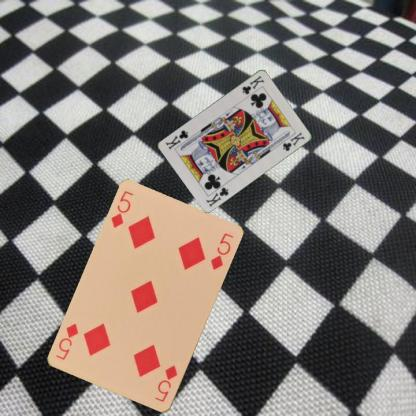5d: (152, 363, 179, 404), (109, 188, 135, 230)
Kc: (203, 184, 230, 208), (239, 73, 266, 95)
